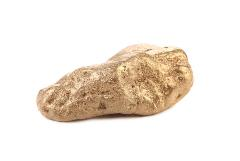organic: (25, 46, 203, 130)
